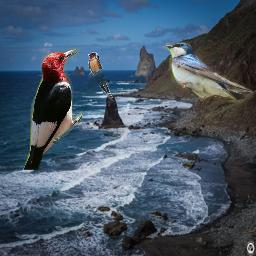Swallow: (166, 42, 253, 107), (88, 52, 113, 101)
Woodpecker: (21, 47, 82, 170)
